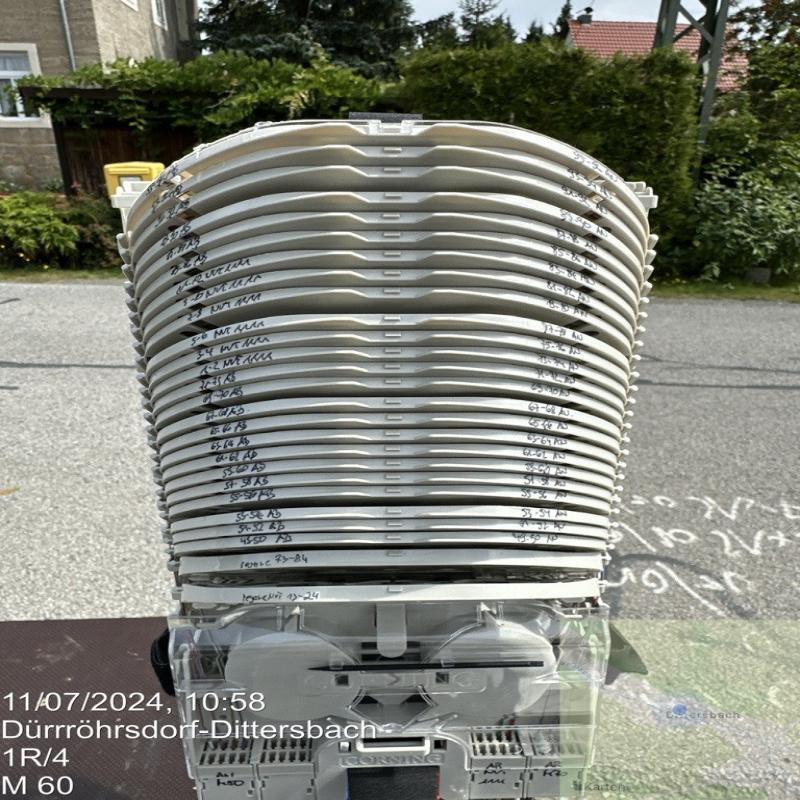NT-Muffen: (115, 112, 668, 784)
